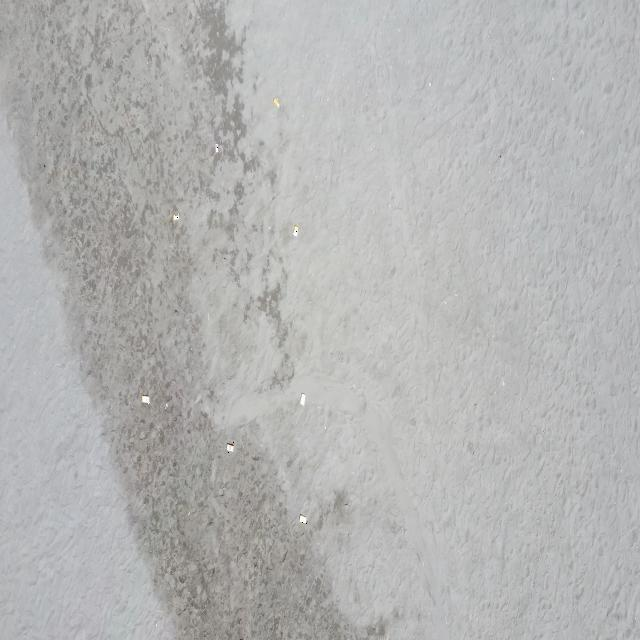Garbage: (226, 440, 233, 452), (272, 96, 279, 108), (292, 223, 298, 236), (140, 395, 148, 404), (172, 208, 178, 220), (300, 513, 307, 523), (300, 392, 304, 404), (215, 143, 220, 152)
